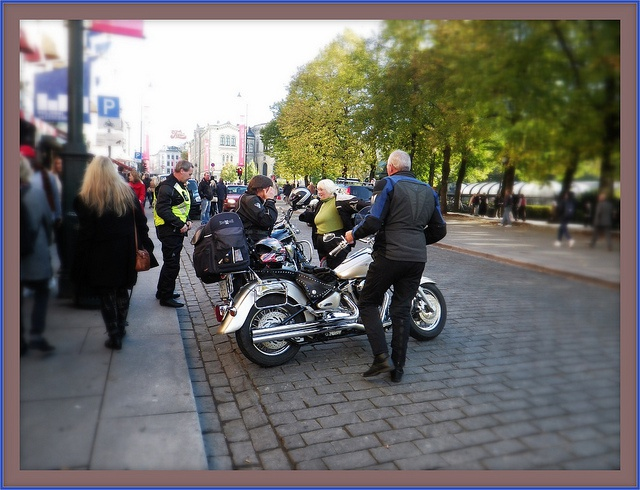non-vehicle: (214, 232, 445, 366), (192, 205, 313, 283)
